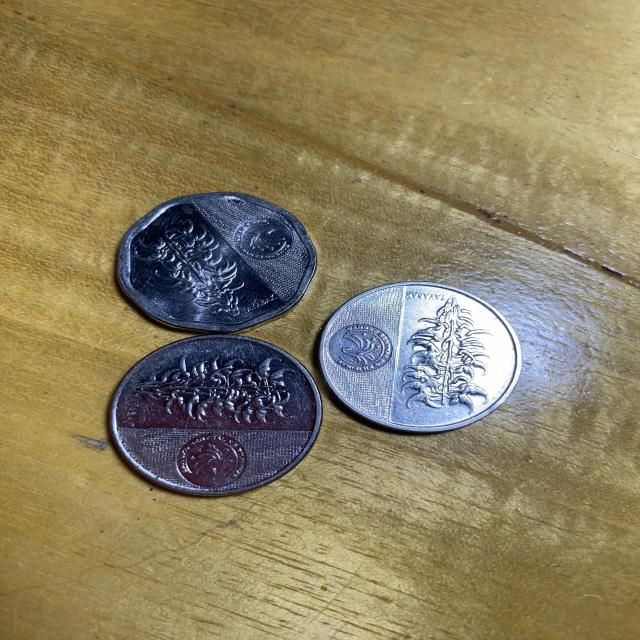5_New_Back: (135, 213, 257, 329)
